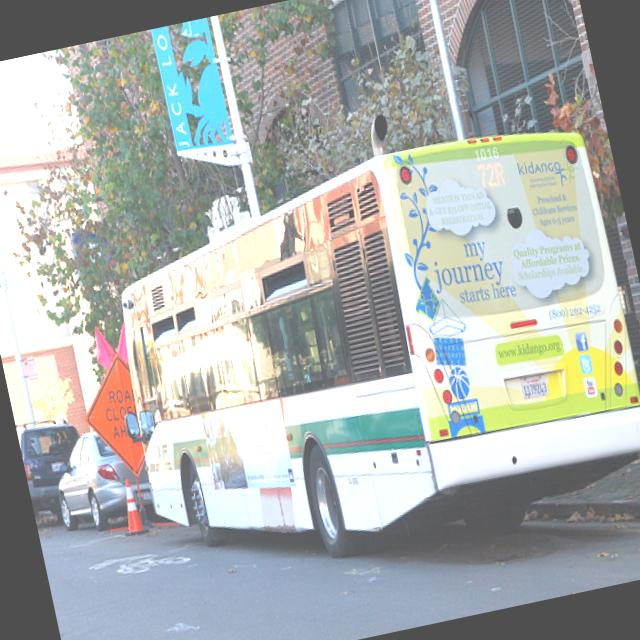Vehicle: (90, 111, 640, 588), (44, 421, 158, 539), (15, 412, 96, 520)
